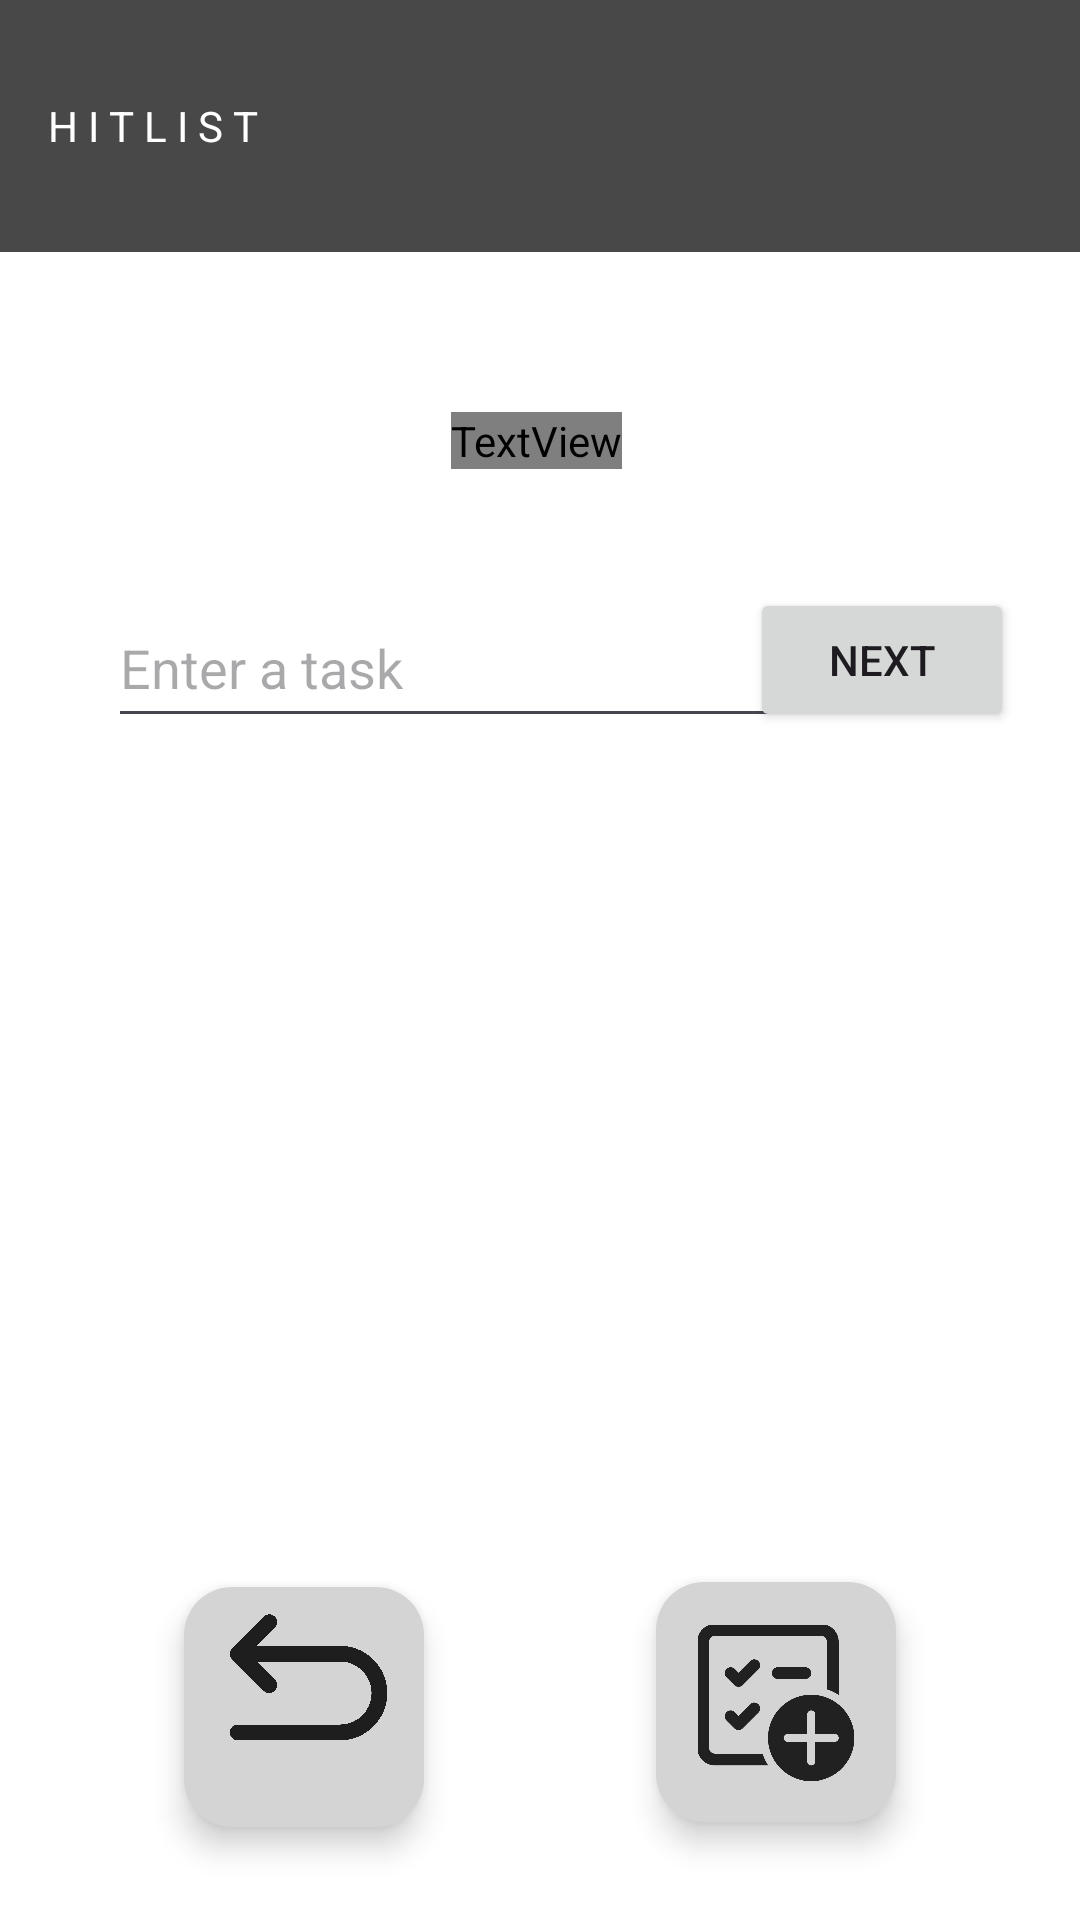

Screen size 1080px x 1920px. Icon name, then its box in pixels as (x1, y1, x2, y2):
add task: (698, 1625, 854, 1781)
back: (230, 1614, 387, 1740)
